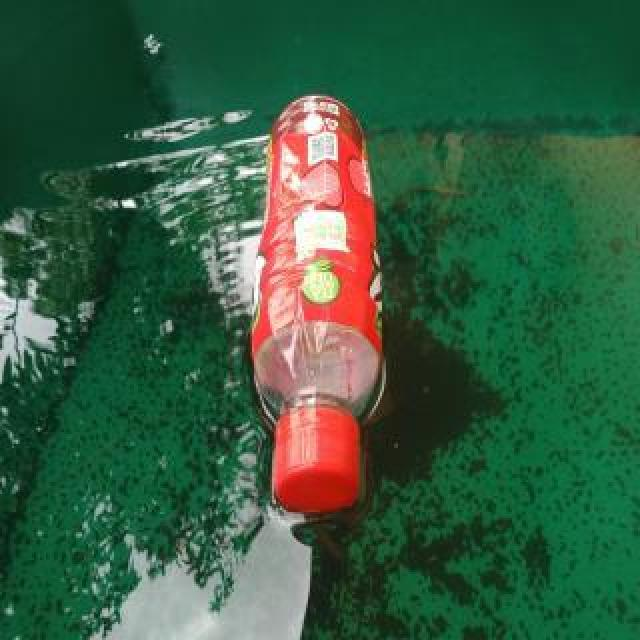bottle: (250, 86, 388, 518)
